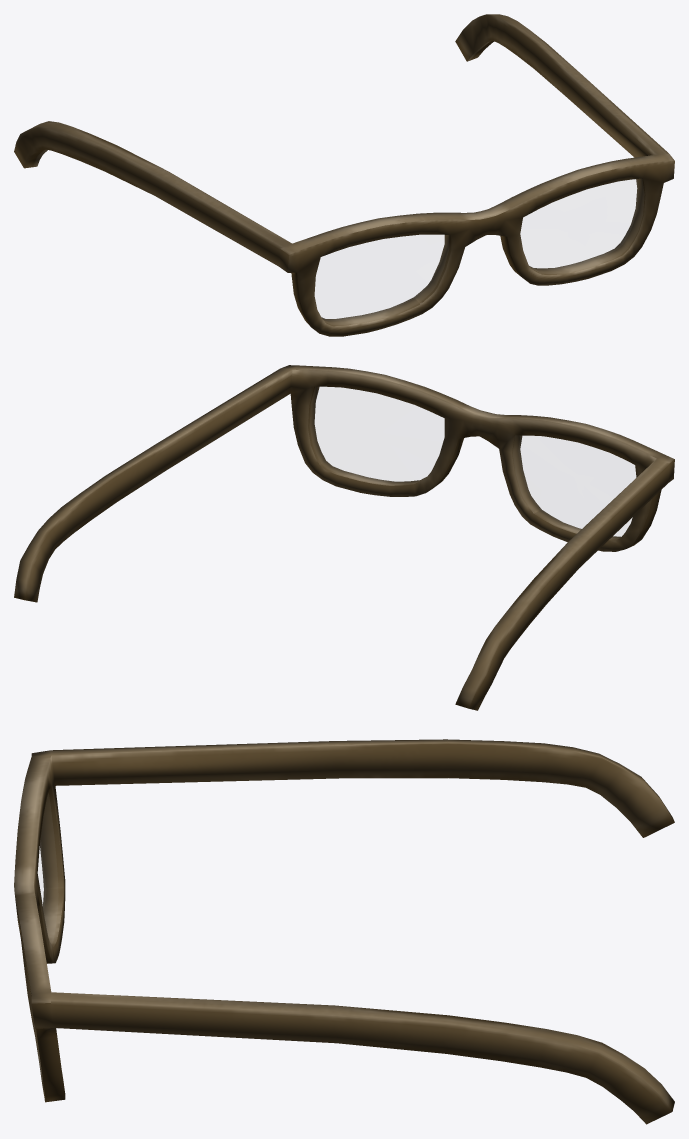
Rendered from glasses.glb.
3 renders of one model, top to bottom at view 1: azimuth 30°, elevation 25°; view 2: azimuth 150°, elevation 25°; view 3: azimuth 270°, elevation 25°, orthographic. The views are drawn at different scales.
Visible parts, largest first — view 1: Glasses Frames, Glasses Lenses; view 2: Glasses Frames, Glasses Lenses; view 3: Glasses Frames.
Boxes of the visible parts, box(x1,y1,x2,y2) form: Glasses Frames: box(14, 14, 674, 336); Glasses Lenses: box(315, 179, 637, 319); Glasses Frames: box(14, 365, 674, 710); Glasses Lenses: box(314, 387, 635, 536); Glasses Frames: box(14, 739, 674, 1124).
Bounding box in the file's own units: 0.1699 × 0.0392 × 0.1572.
2 materials, 2 textured.
